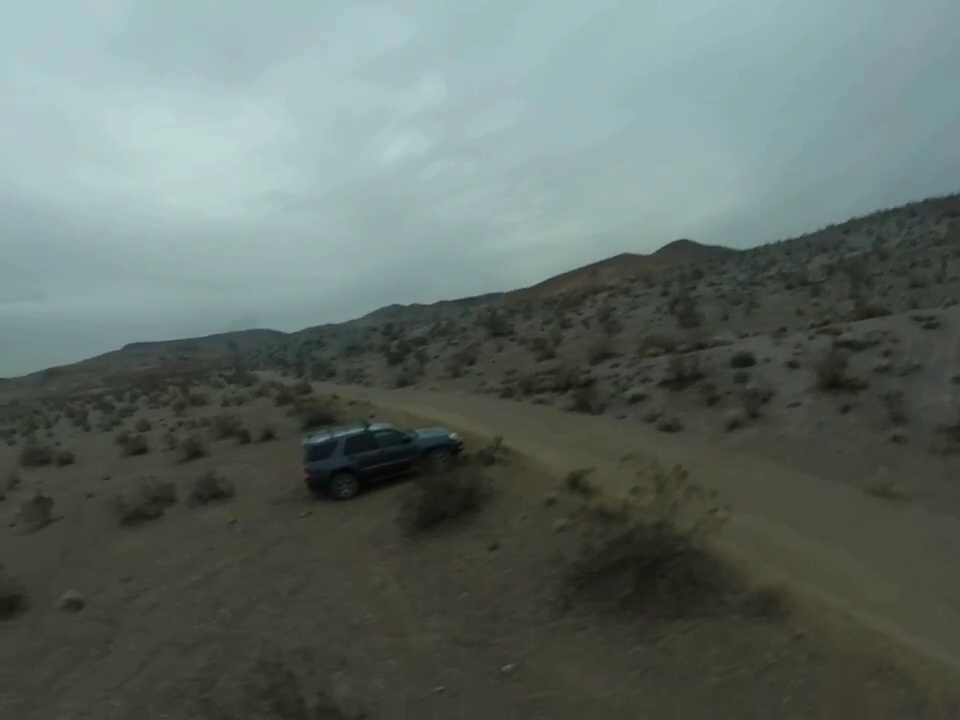araba: (300, 423, 472, 500)
